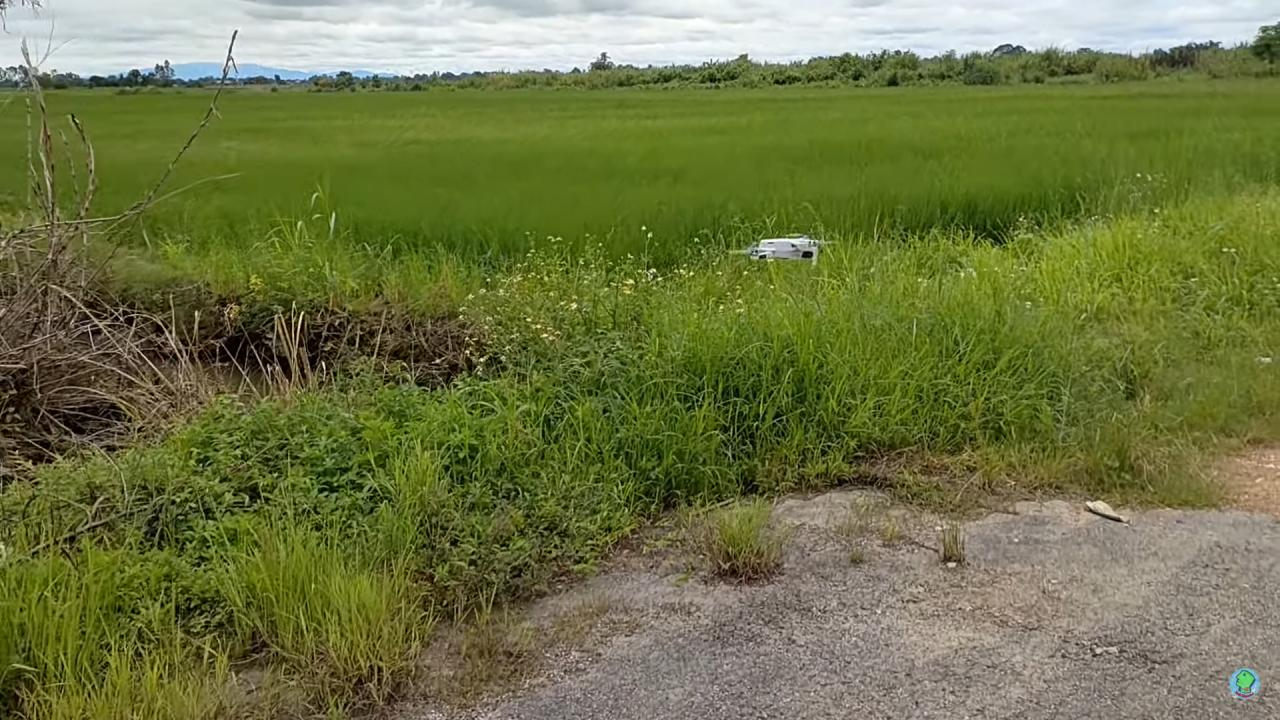Drone: (716, 223, 842, 277)
